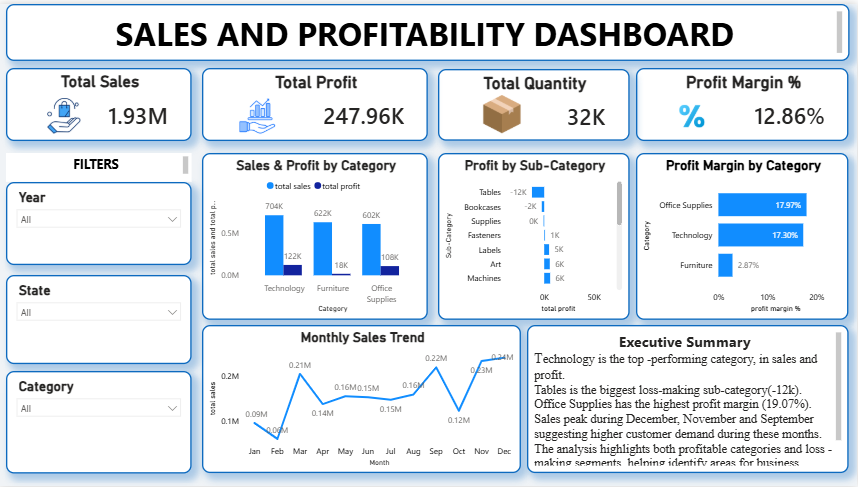

This screenshot's page, from the dashboard's own definition file:
{"tool":"powerbi","page":{"name":"Page 1","canvas":[1280,720],"ordinal":0},"visuals":[{"type":"textbox","box":[10,0,1259,85],"z":0},{"type":"cardVisual","title":"Total Sales ","fields":{"Data":["Sheet1.total sales"]},"box":[10,95.7,277.1,108.6],"z":1000},{"type":"cardVisual","title":"Profit Margin %","fields":{"Data":["Sheet1.profit margin %"]},"box":[951.4,95.7,317.1,108.6],"z":2000},{"type":"cardVisual","title":"Total Quantity","fields":{"Data":["Sheet1.total quantity"]},"box":[655.7,97.1,285.7,107.1],"z":3000},{"type":"cardVisual","title":"Total Profit","fields":{"Data":["Sheet1.total profit"]},"box":[302.9,95.7,337.1,108.6],"z":4000},{"type":"image","box":[45.7,140,101.4,52.9],"z":5000},{"type":"image","box":[322.9,140,125.7,54.3],"z":6000},{"type":"image","box":[970,140,128.6,54.3],"z":7000},{"type":"image","box":[670,135.7,161.4,57.1],"z":8000},{"type":"clusteredColumnChart","title":"Sales & Profit by Category","fields":{"Category":["Sheet1.Category"],"Y":["Sheet1.total sales","Sheet1.total profit"]},"box":[302.9,222.9,337.1,248.6],"z":9000},{"type":"clusteredBarChart","title":"Profit by Sub-Category","fields":{"Category":["Sheet1.Sub-Category"],"Y":["Sheet1.total profit"]},"box":[655.7,222.9,285.7,248.6],"z":9001},{"type":"lineChart","title":"Monthly Sales Trend","fields":{"Y":["Sheet1.total sales"],"Category":["Sheet1.Month"]},"box":[302.9,478.6,475.7,221.4],"z":9002},{"type":"clusteredBarChart","title":"Profit Margin  by Category","fields":{"Category":["Sheet1.Category"],"Y":["Sheet1.profit margin %"]},"box":[951.4,222.9,317.1,248.6],"z":9003},{"type":"slicer","fields":{"Values":["Sheet1.Year"]},"box":[10,265.7,277.1,124.3],"z":9004},{"type":"slicer","fields":{"Values":["Sheet1.State"]},"box":[10,404.3,277.1,132.9],"z":9005},{"type":"textbox","box":[10,222.9,277.1,42.9],"z":9006},{"type":"slicer","fields":{"Values":["Sheet1.Category"]},"box":[10,547.1,277.1,152.9],"z":9007},{"type":"textbox","box":[788.6,478.6,480,221.4],"z":9008}]}

Visuals, with their boxes in screenshot pixels (x1, y1, x2, y2), scaled from the page's 1280x720 canvas onto the 858x487 screenshot:
textbox: <box>7,0,851,57</box>
"Total Sales " cardVisual: <box>7,65,192,138</box>
"Profit Margin %" cardVisual: <box>638,65,850,138</box>
"Total Quantity" cardVisual: <box>440,66,631,138</box>
"Total Profit" cardVisual: <box>203,65,429,138</box>
image: <box>31,95,99,130</box>
image: <box>216,95,301,131</box>
image: <box>650,95,736,131</box>
image: <box>449,92,557,130</box>
"Sales & Profit by Category" clusteredColumnChart: <box>203,151,429,319</box>
"Profit by Sub-Category" clusteredBarChart: <box>440,151,631,319</box>
"Monthly Sales Trend" lineChart: <box>203,324,522,473</box>
"Profit Margin  by Category" clusteredBarChart: <box>638,151,850,319</box>
slicer - Sheet1.Year: <box>7,180,192,264</box>
slicer - Sheet1.State: <box>7,273,192,363</box>
textbox: <box>7,151,192,180</box>
slicer - Sheet1.Category: <box>7,370,192,473</box>
textbox: <box>529,324,850,473</box>
